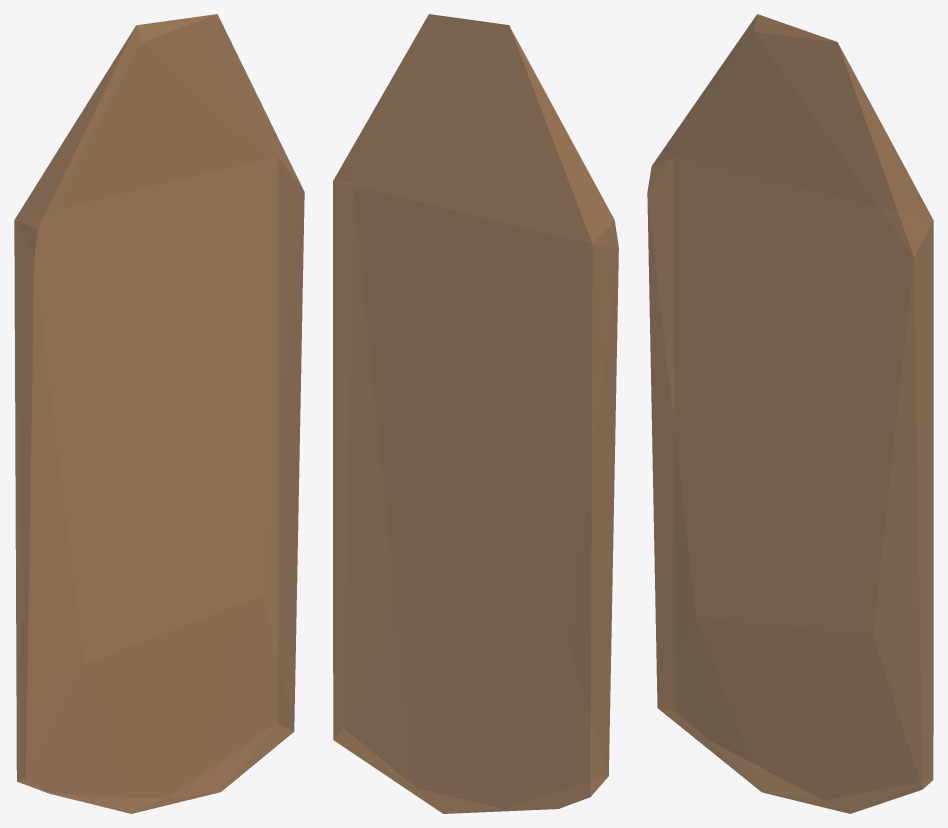
3 renders of one model, left to right at view 1: azimuth 30°, elevation 25°; view 2: azimuth 150°, elevation 25°; view 3: azimuth 330°, elevation 25°, orthographic.
Parts seen in each view (by area): view 1: Shape_IndexedFaceSet.030_Shape_IndexedFaceSet.9002; view 2: Shape_IndexedFaceSet.030_Shape_IndexedFaceSet.9002; view 3: Shape_IndexedFaceSet.030_Shape_IndexedFaceSet.9002.
Boxes of the visible parts, x1,y1,x2,y2 form: Shape_IndexedFaceSet.030_Shape_IndexedFaceSet.9002: (14, 14, 304, 813); Shape_IndexedFaceSet.030_Shape_IndexedFaceSet.9002: (333, 14, 618, 813); Shape_IndexedFaceSet.030_Shape_IndexedFaceSet.9002: (647, 14, 933, 813).
Bounding box in the file's own units: 0.2066 × 0.5833 × 0.0309.
